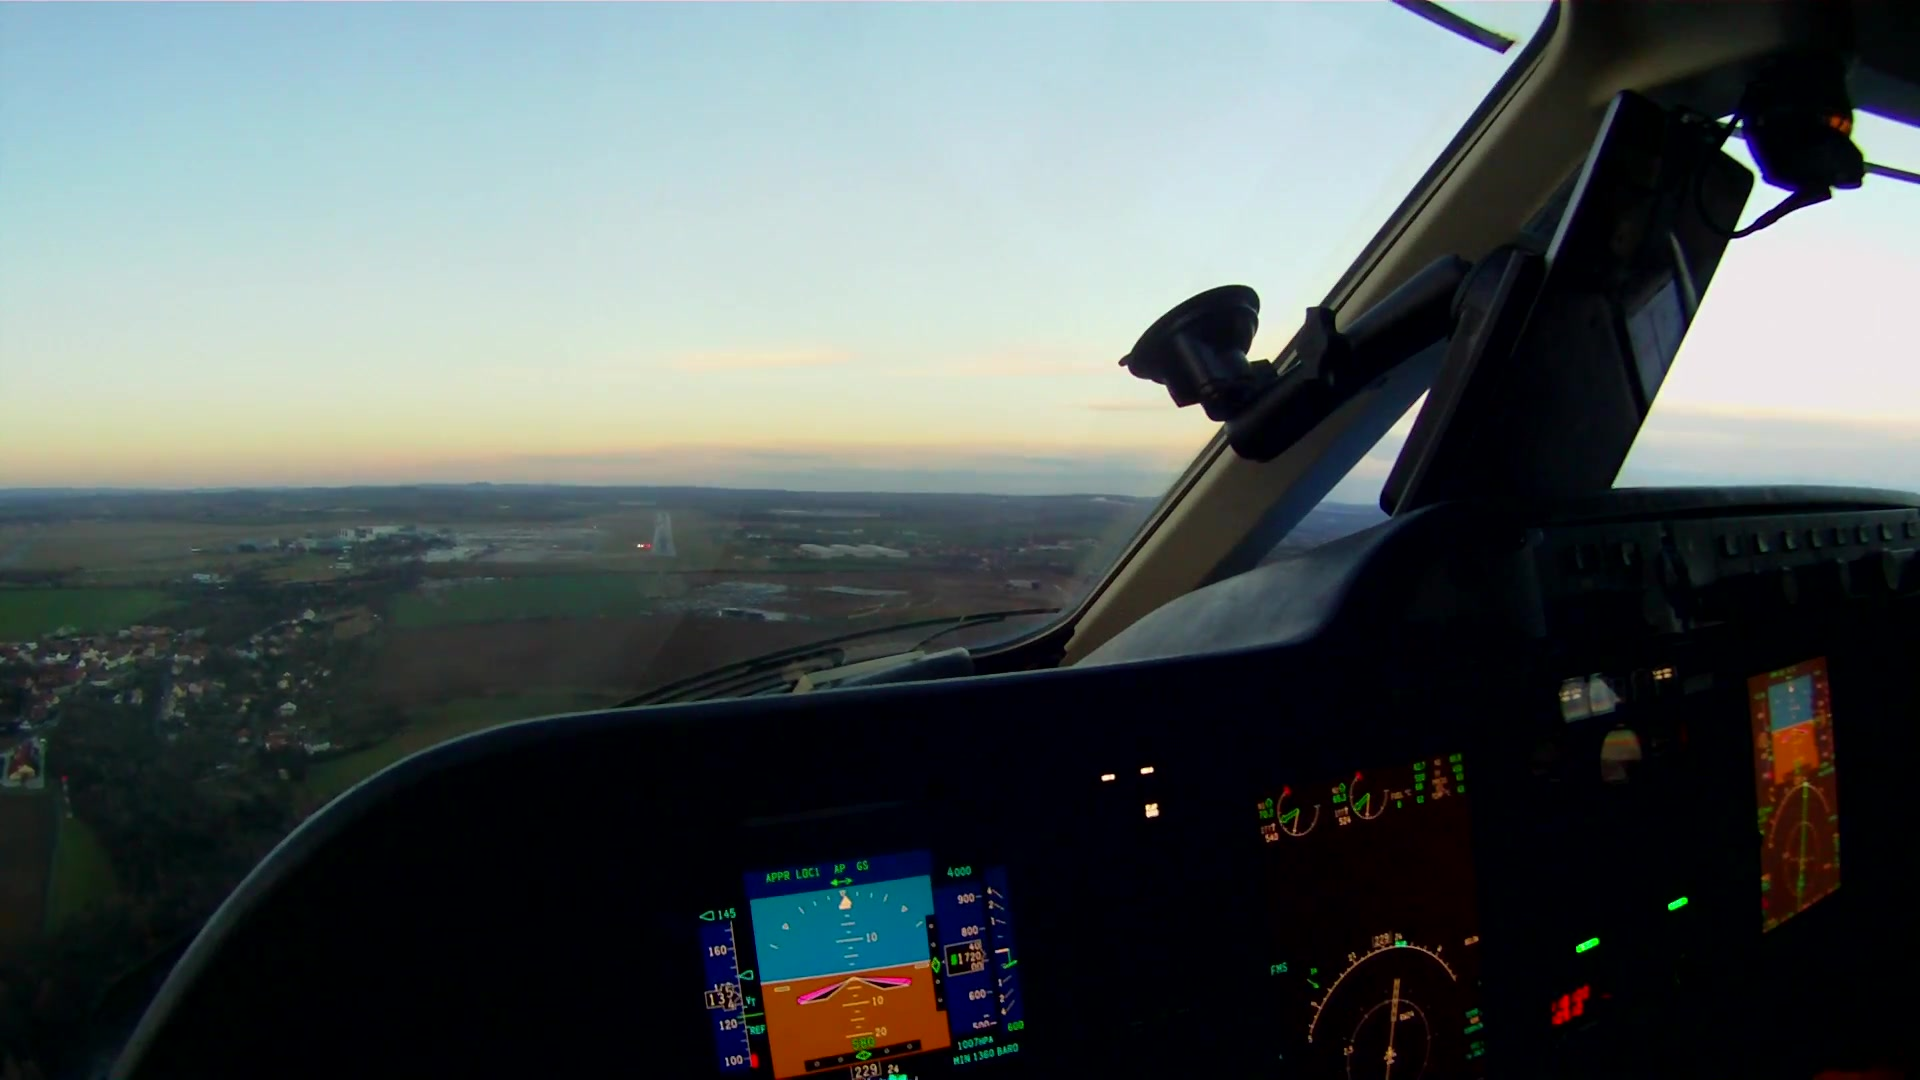runway: (649, 513, 683, 560)
